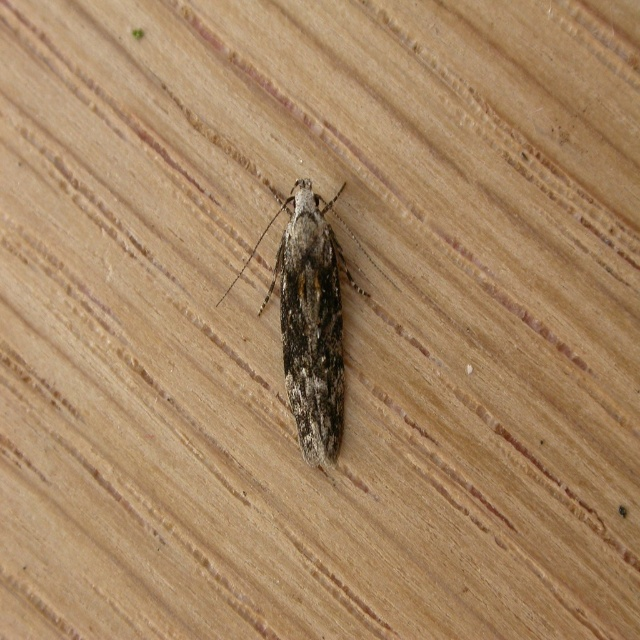Moths and butterflies: (214, 174, 405, 471)
